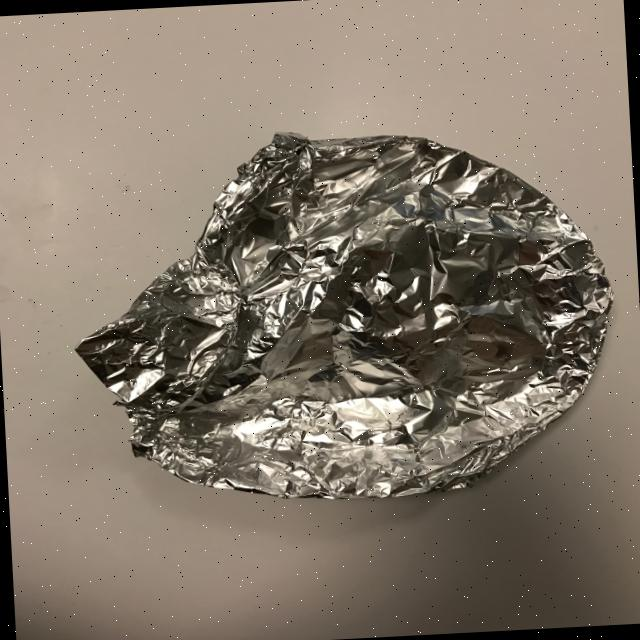metal: (64, 115, 624, 514)
